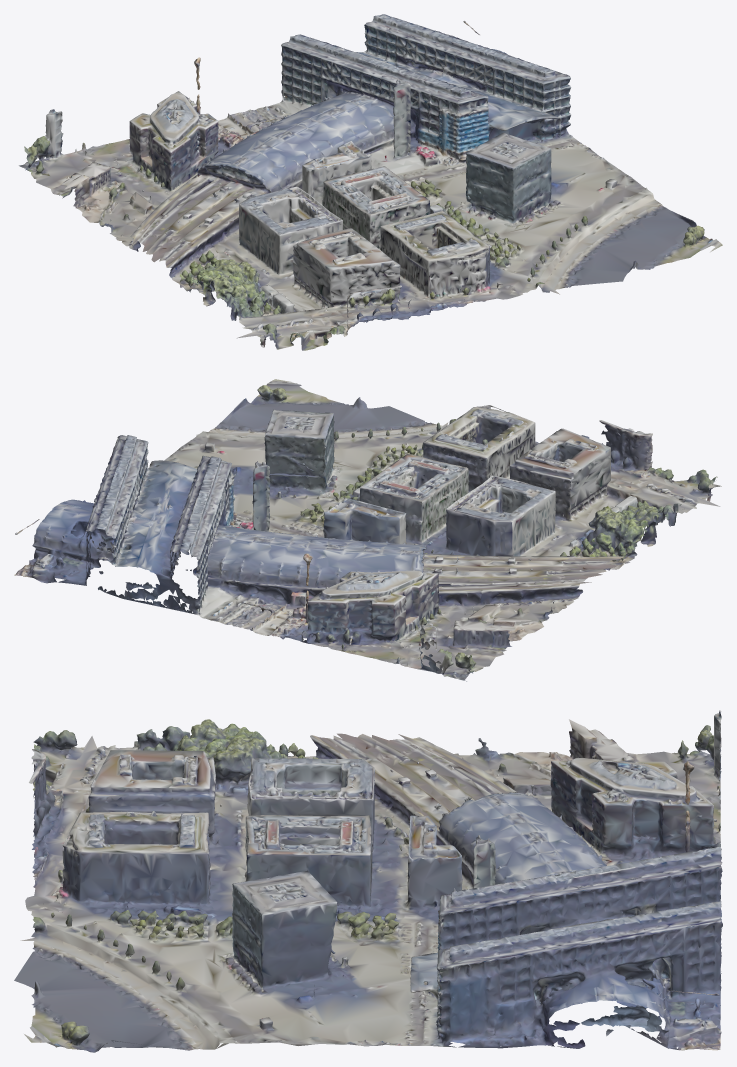
Rendered from surface-detail-3890_58203.glb.
3 renders of one model, top to bottom at view 1: azimuth 30°, elevation 25°; view 2: azimuth 150°, elevation 25°; view 3: azimuth 270°, elevation 25°, orthographic. The views are drawn at different scales.
Parts seen in each view (by area): view 1: world; view 2: world; view 3: world.
Part boxes in pixels (x1,y1,x2,y2): world: [19, 14, 722, 350]; world: [14, 379, 721, 681]; world: [14, 710, 722, 1052].
Bounding box in the file's own units: 378 × 67.13 × 373.
